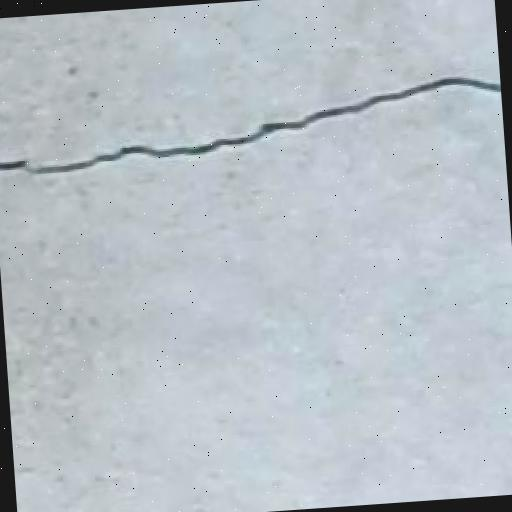spalling: (0, 61, 492, 209)
